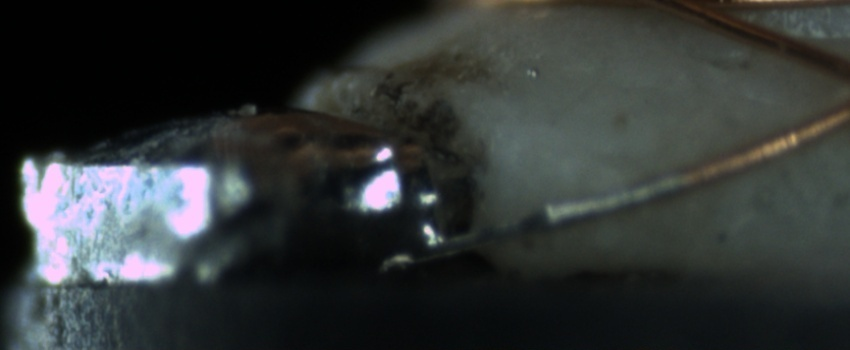TB: (520, 196, 581, 232)
TS: (407, 168, 673, 265)
TTCW: (391, 122, 728, 269)
